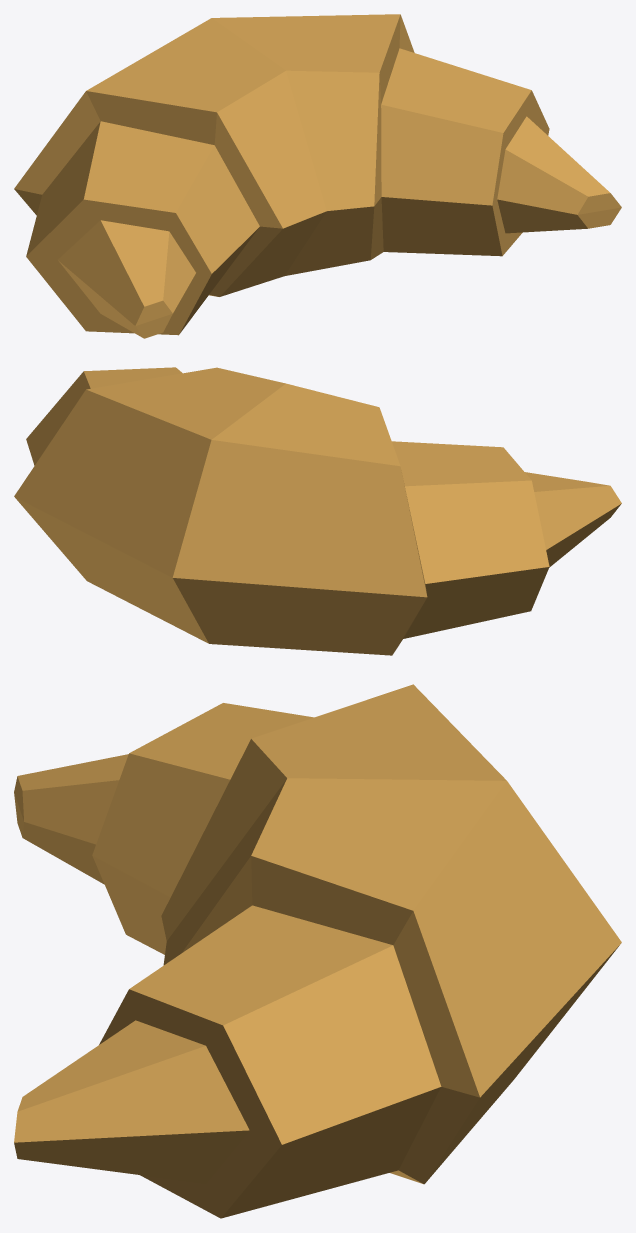
File: Croissant.fbx
3 renders of one model, top to bottom at view 1: azimuth 30°, elevation 25°; view 2: azimuth 150°, elevation 25°; view 3: azimuth 270°, elevation 25°, orthographic. The views are drawn at different scales.
Visible parts, largest first — view 1: Corason; view 2: Corason; view 3: Corason.
Part boxes in pixels (left/top/right/bottom): Corason: left=14, top=14, right=621, bottom=338; Corason: left=14, top=367, right=621, bottom=655; Corason: left=14, top=684, right=621, bottom=1218.
Bounding box in the file's own units: 3.81 × 1.44 × 2.6.
